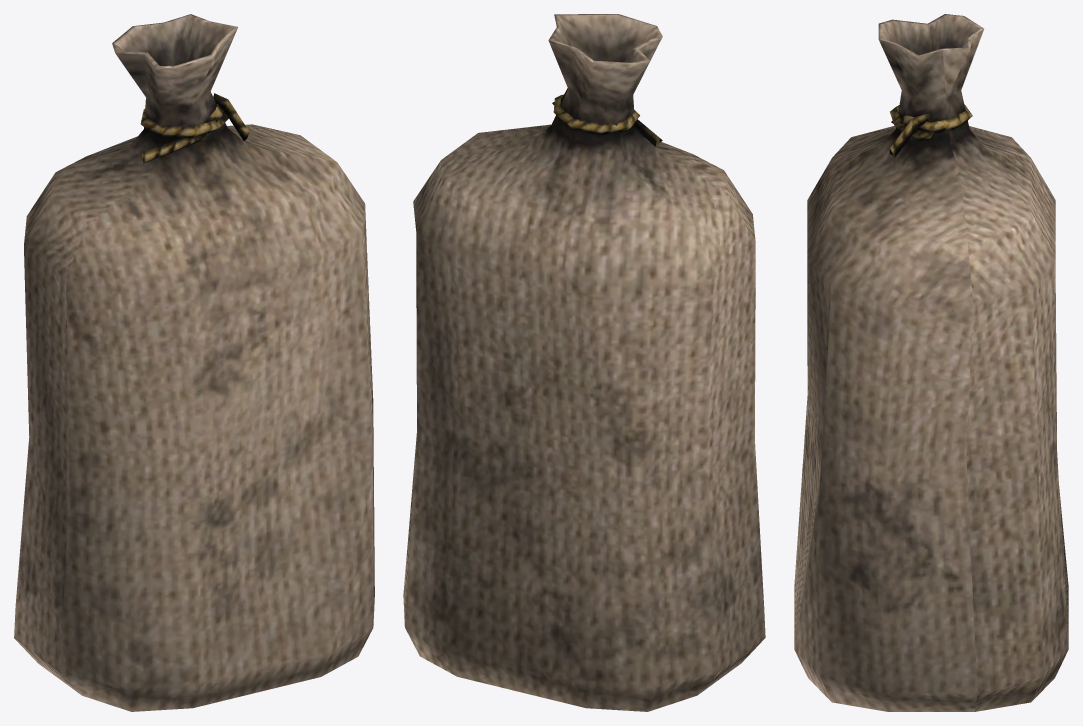
The model's file is bag01.dae.
3 views of the same model, side by side, from view 1: azimuth 30°, elevation 25°; view 2: azimuth 150°, elevation 25°; view 3: azimuth 270°, elevation 25° (orthographic).
Parts seen in each view (by area): view 1: headusOBJexport; view 2: headusOBJexport; view 3: headusOBJexport.
Part boxes in pixels (left/top/right/bottom): headusOBJexport: left=14, top=14, right=374, bottom=711; headusOBJexport: left=403, top=14, right=765, bottom=711; headusOBJexport: left=794, top=14, right=1068, bottom=711.
Bounding box in the file's own units: 0.4154 × 0.7936 × 0.3181.
